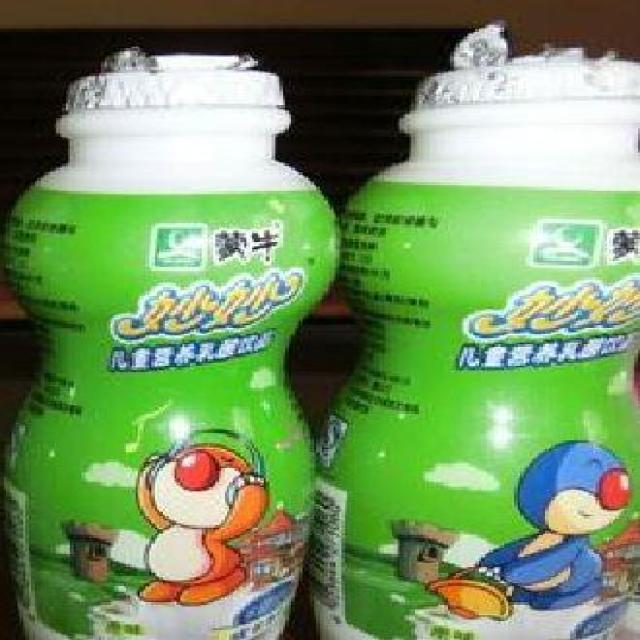-Recyclables - plastic bottle-: (319, 62, 640, 640), (2, 51, 314, 640)
